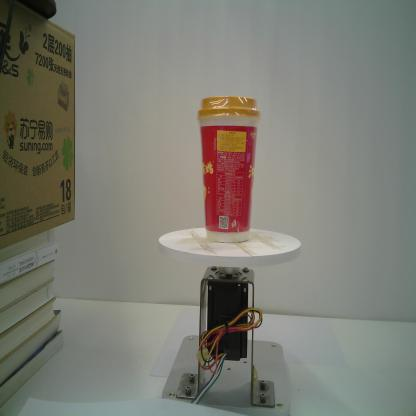Instant Drink: (197, 95, 261, 244)
